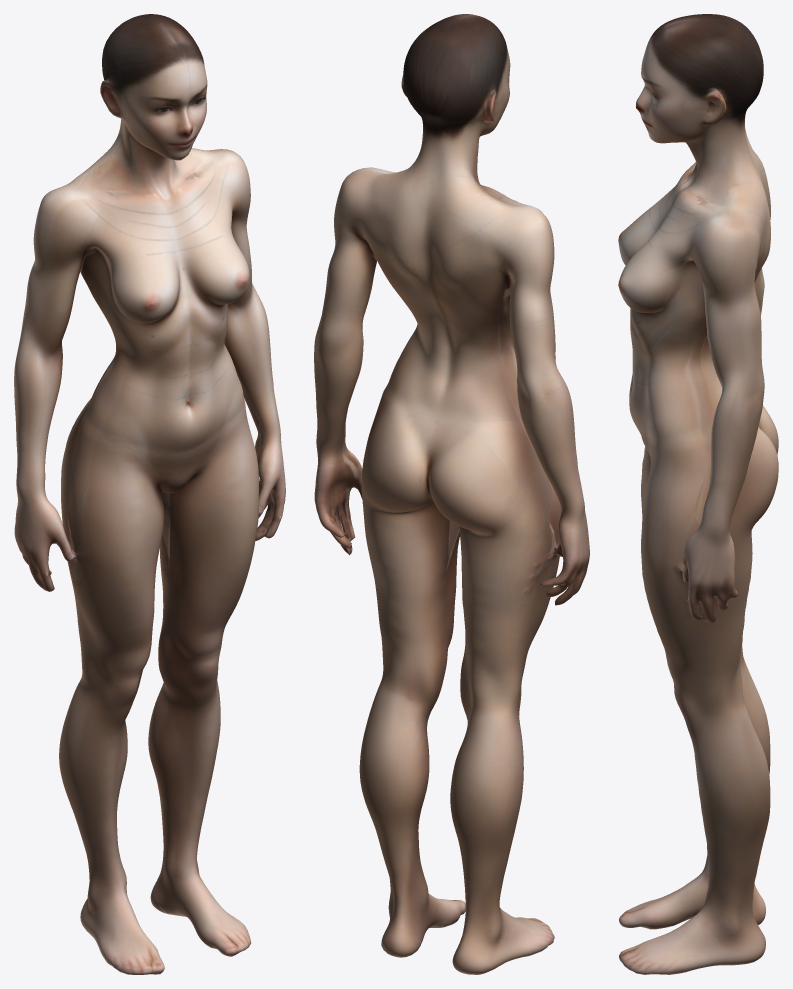
The model's file is body.glb.
The picture shows the model from 3 angles, left to right: view 1: azimuth 30°, elevation 25°; view 2: azimuth 150°, elevation 25°; view 3: azimuth 270°, elevation 25°; orthographic projection.
Visible parts, largest first — view 1: Object_2; view 2: Object_2; view 3: Object_2.
Part boxes in pixels (x1,y1,x2,y2): Object_2: (14, 14, 285, 974); Object_2: (314, 14, 589, 974); Object_2: (618, 14, 778, 974).
Size of the model in its own units: 0.5949 by 2 by 0.3134.
1 material, 1 textured.
